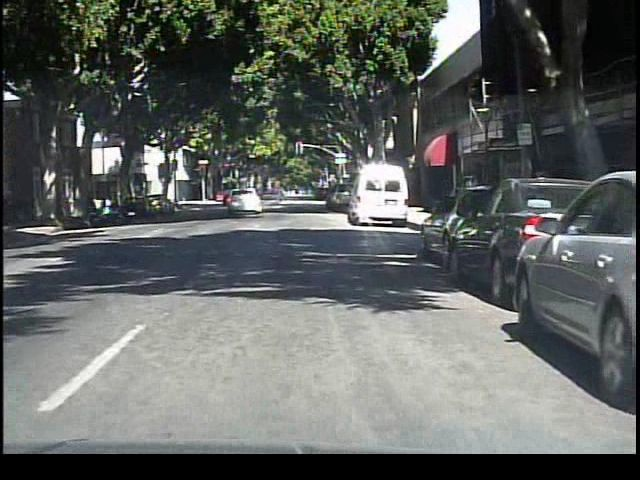person: (459, 167, 484, 228), (268, 178, 288, 211)
